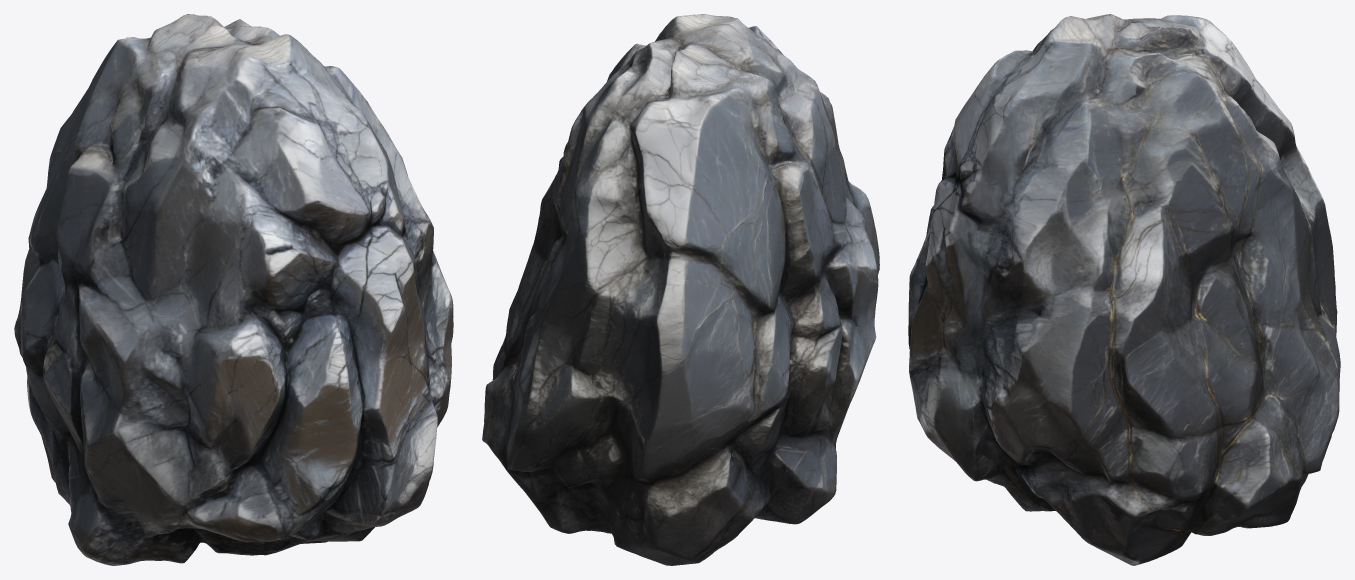
File: AI_SilverOre.fbx
3 renders of one model, left to right at view 1: azimuth 30°, elevation 25°; view 2: azimuth 150°, elevation 25°; view 3: azimuth 270°, elevation 25°, orthographic. The views are drawn at different scales.
Visible parts, largest first — view 1: Mesh1.0; view 2: Mesh1.0; view 3: Mesh1.0.
Part boxes in pixels (x1=…): Mesh1.0: x1=14, y1=14, x2=453, y2=565; Mesh1.0: x1=482, y1=14, x2=879, y2=565; Mesh1.0: x1=908, y1=14, x2=1340, y2=565.
Size of the model in its own units: 141 by 199 by 159.
1 material, 1 textured.
